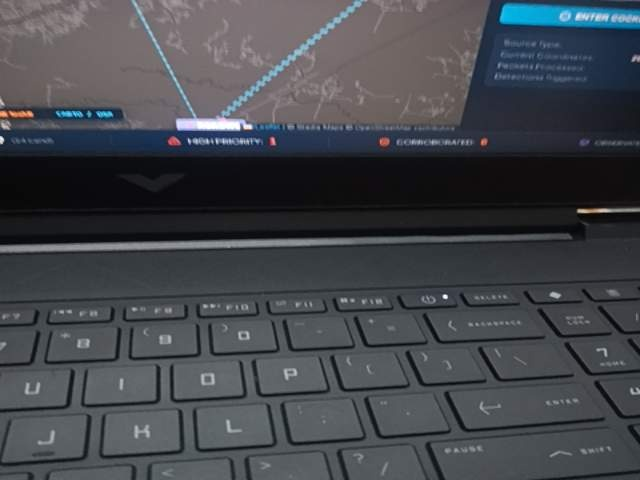pothole: (104, 256, 313, 467), (104, 403, 312, 480), (536, 403, 640, 480)
